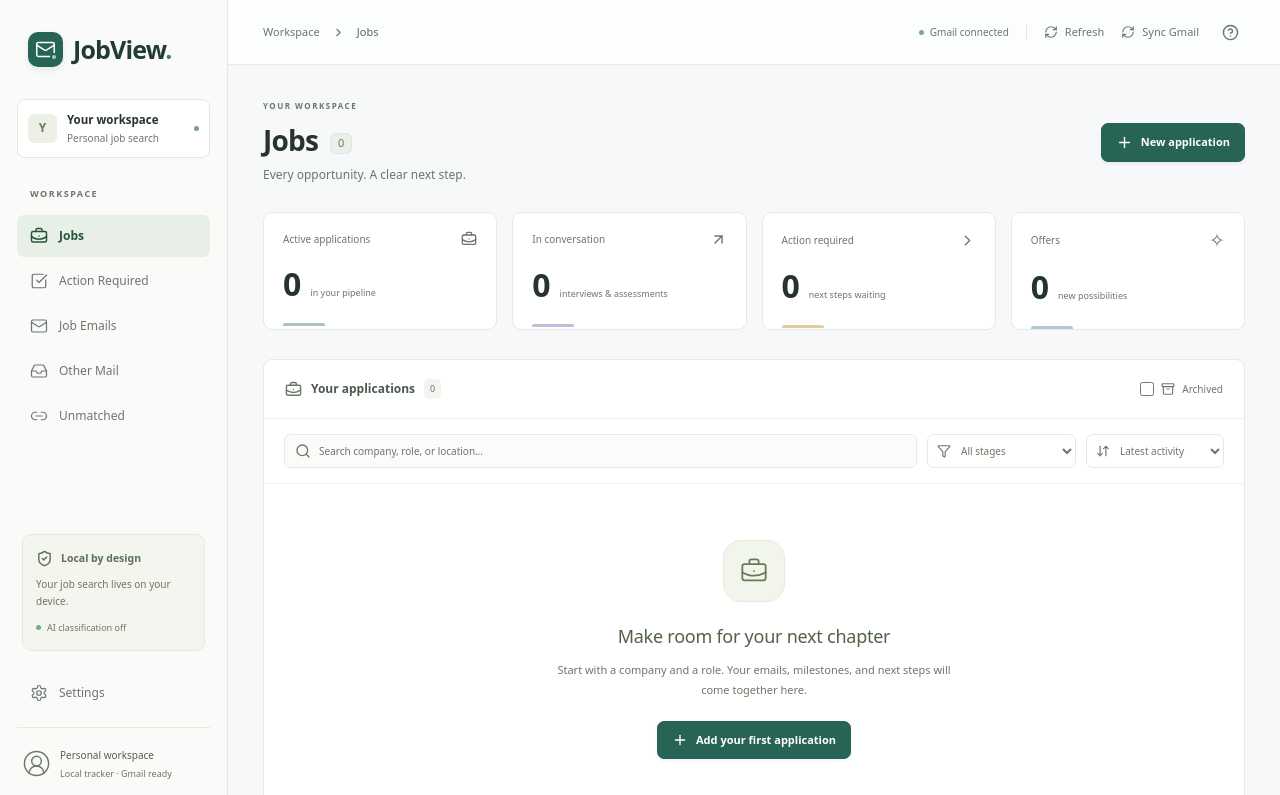
Gmail integration UI › keeps failed Gmail sync visible while applications remain usable and allows retry
Click the button "Sync Gmail".
click(1160, 32)  # box 1121,24 -> 1199,40
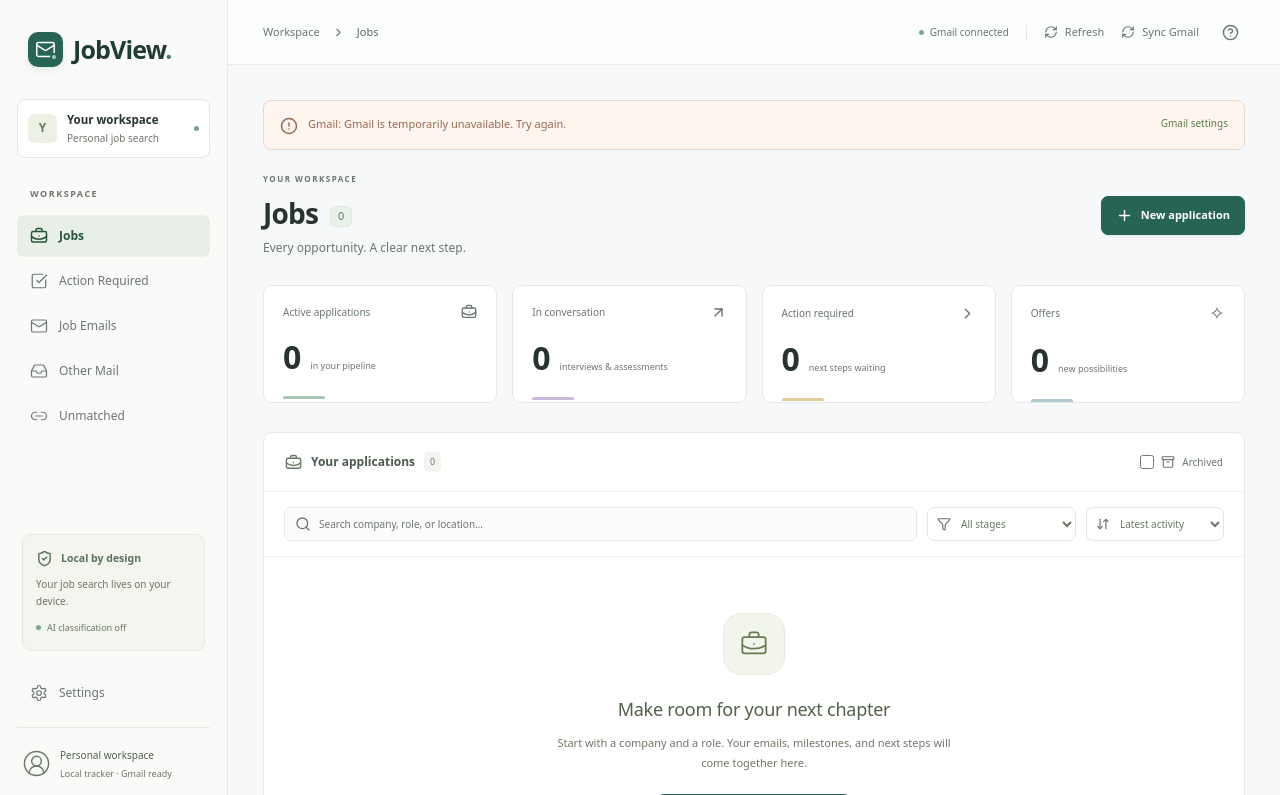
Expected: the button "New application" is enabled, 1101,196 -> 1245,235
Now the message shows "Gmail is temporarily unavailable", box 344,116 -> 566,131
Click the button "Gmail settings".
click(1194, 124)  # box 1161,115 -> 1228,132
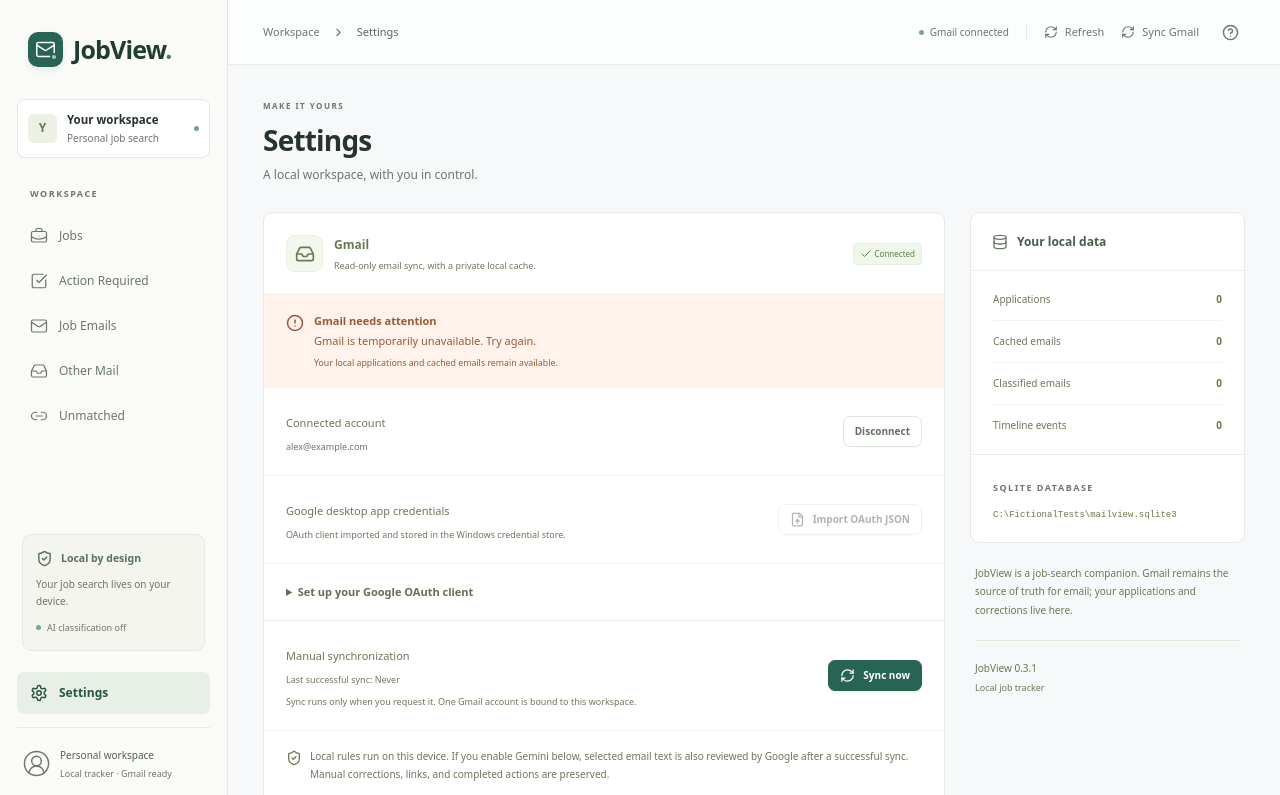
Now the message shows "Your local applications and cached emails remain available.", box 314,357 -> 558,369
Now the button "Sync now" is enabled, box 828,660 -> 922,691
